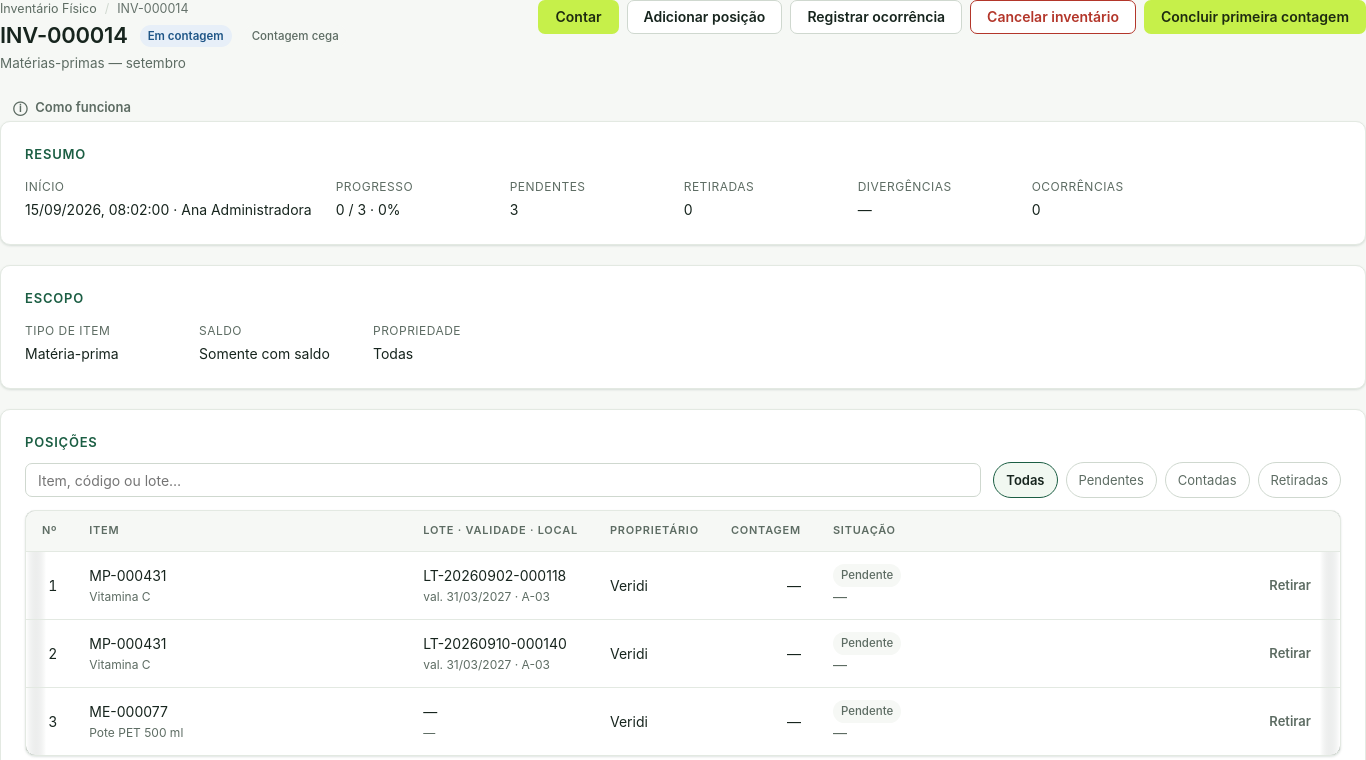
Scenario: detalhe do inventário — posições › retirar exige motivo e avisa que é definitivo
Click the button with aria-label "Retirar a posição 1": point(1290, 586) x1=1256 y1=572 x2=1324 y2=600
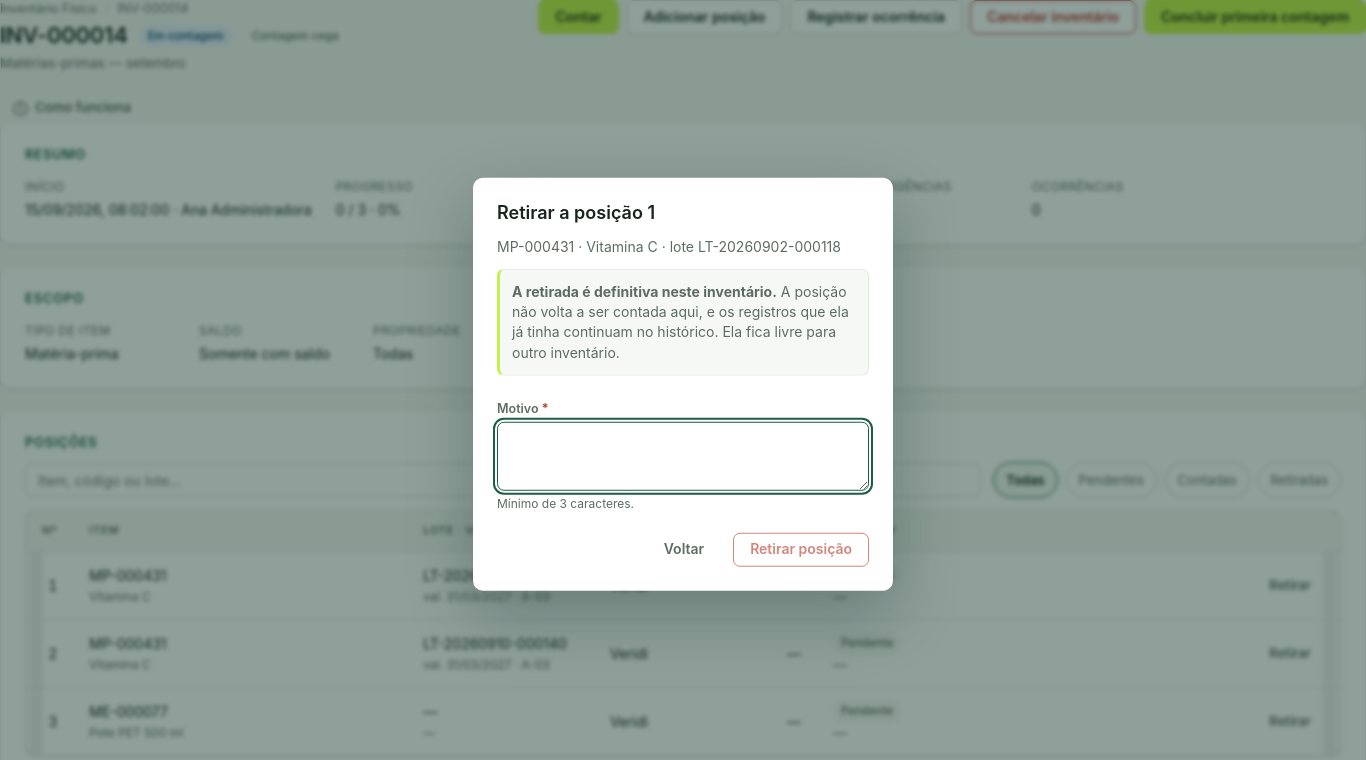
Check: the dialog shows "A retirada é definitiva neste inventário.", box x1=512 y1=282 x2=777 y2=300
Check: the button "Retirar posição" is disabled, box x1=733 y1=532 x2=869 y2=566
In the text box labelled "Motivo *": point(683, 456) x1=497 y1=422 x2=869 y2=491, type "Item descontinuado"
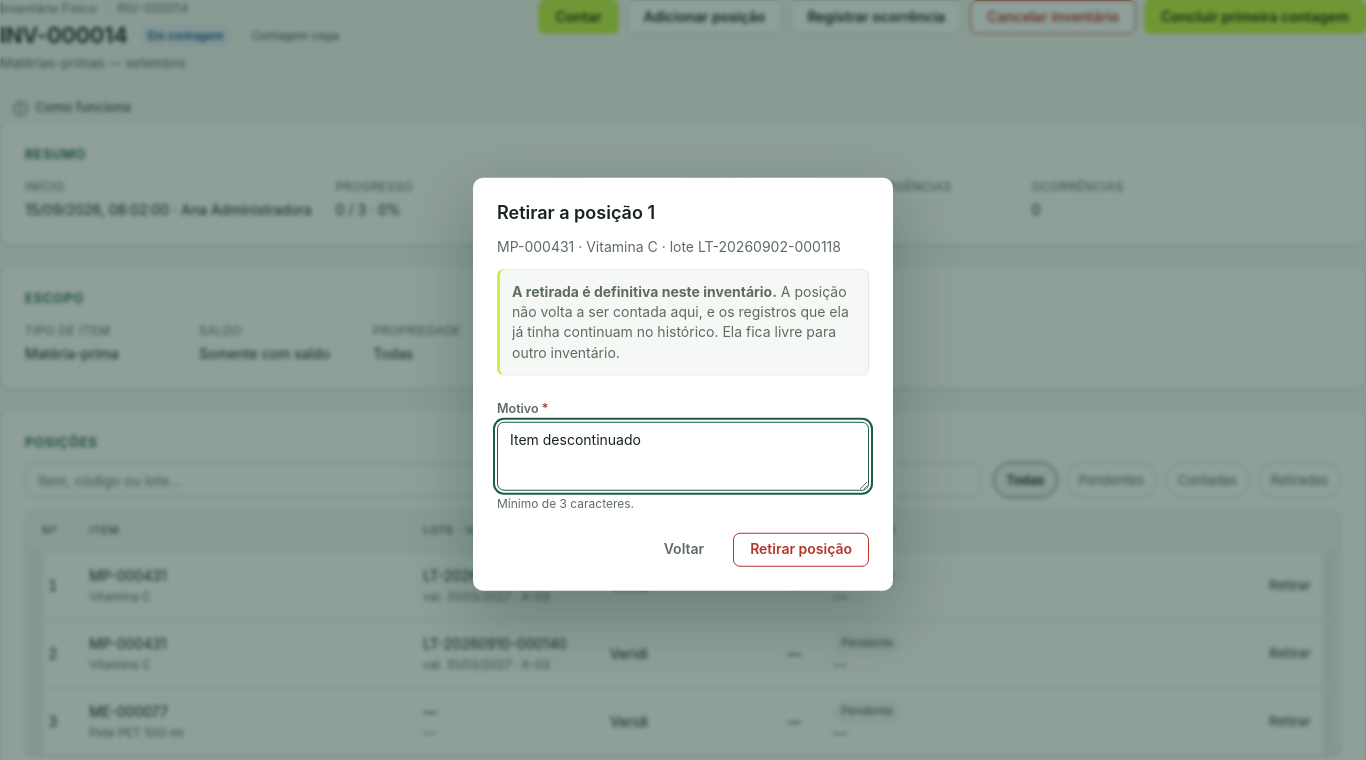
Check: the button "Retirar posição" is enabled
Click the button "Retirar posição": point(801, 549) x1=733 y1=532 x2=869 y2=566
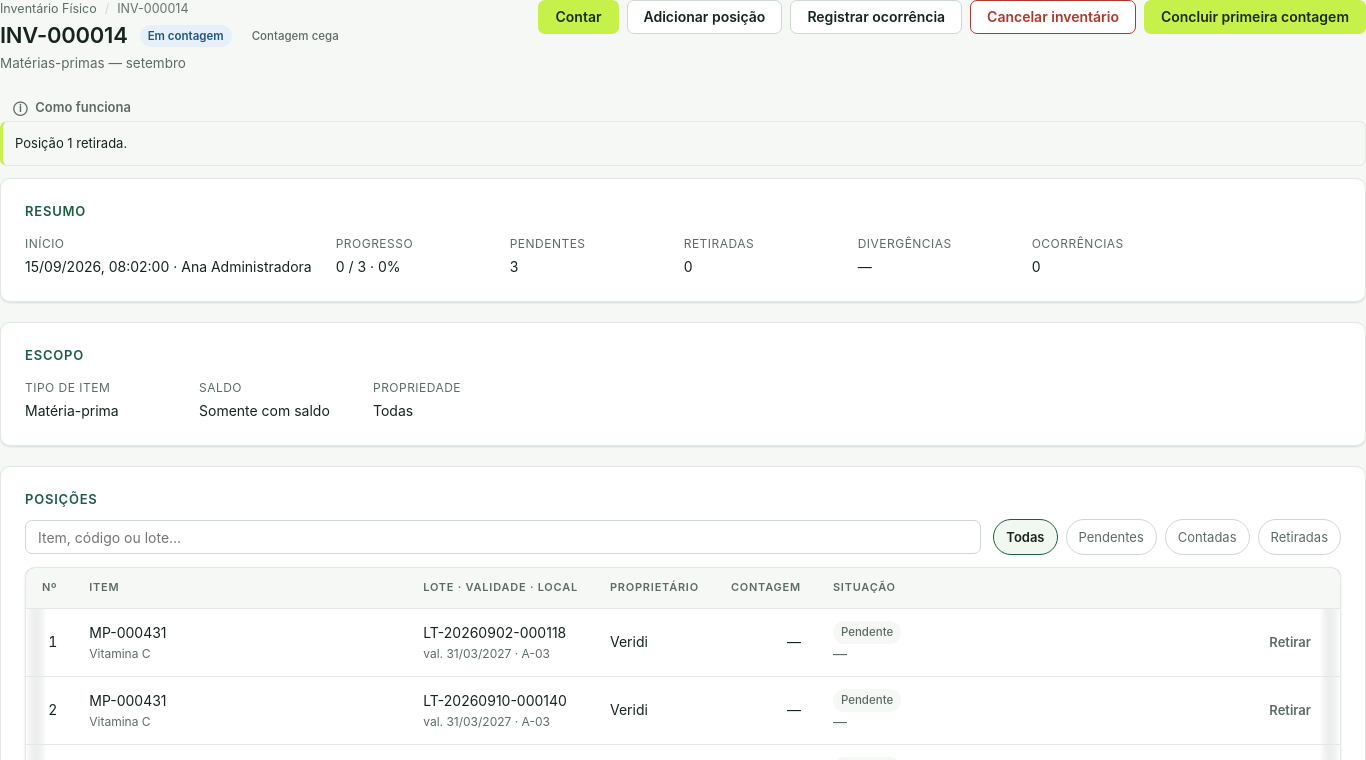
Check: the dialog is gone
